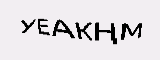А: (51, 19, 75, 38)
Е: (36, 18, 52, 35)
К: (73, 21, 93, 41)
М: (120, 22, 143, 40)
У: (16, 19, 36, 34)
Ң: (93, 21, 117, 45)
